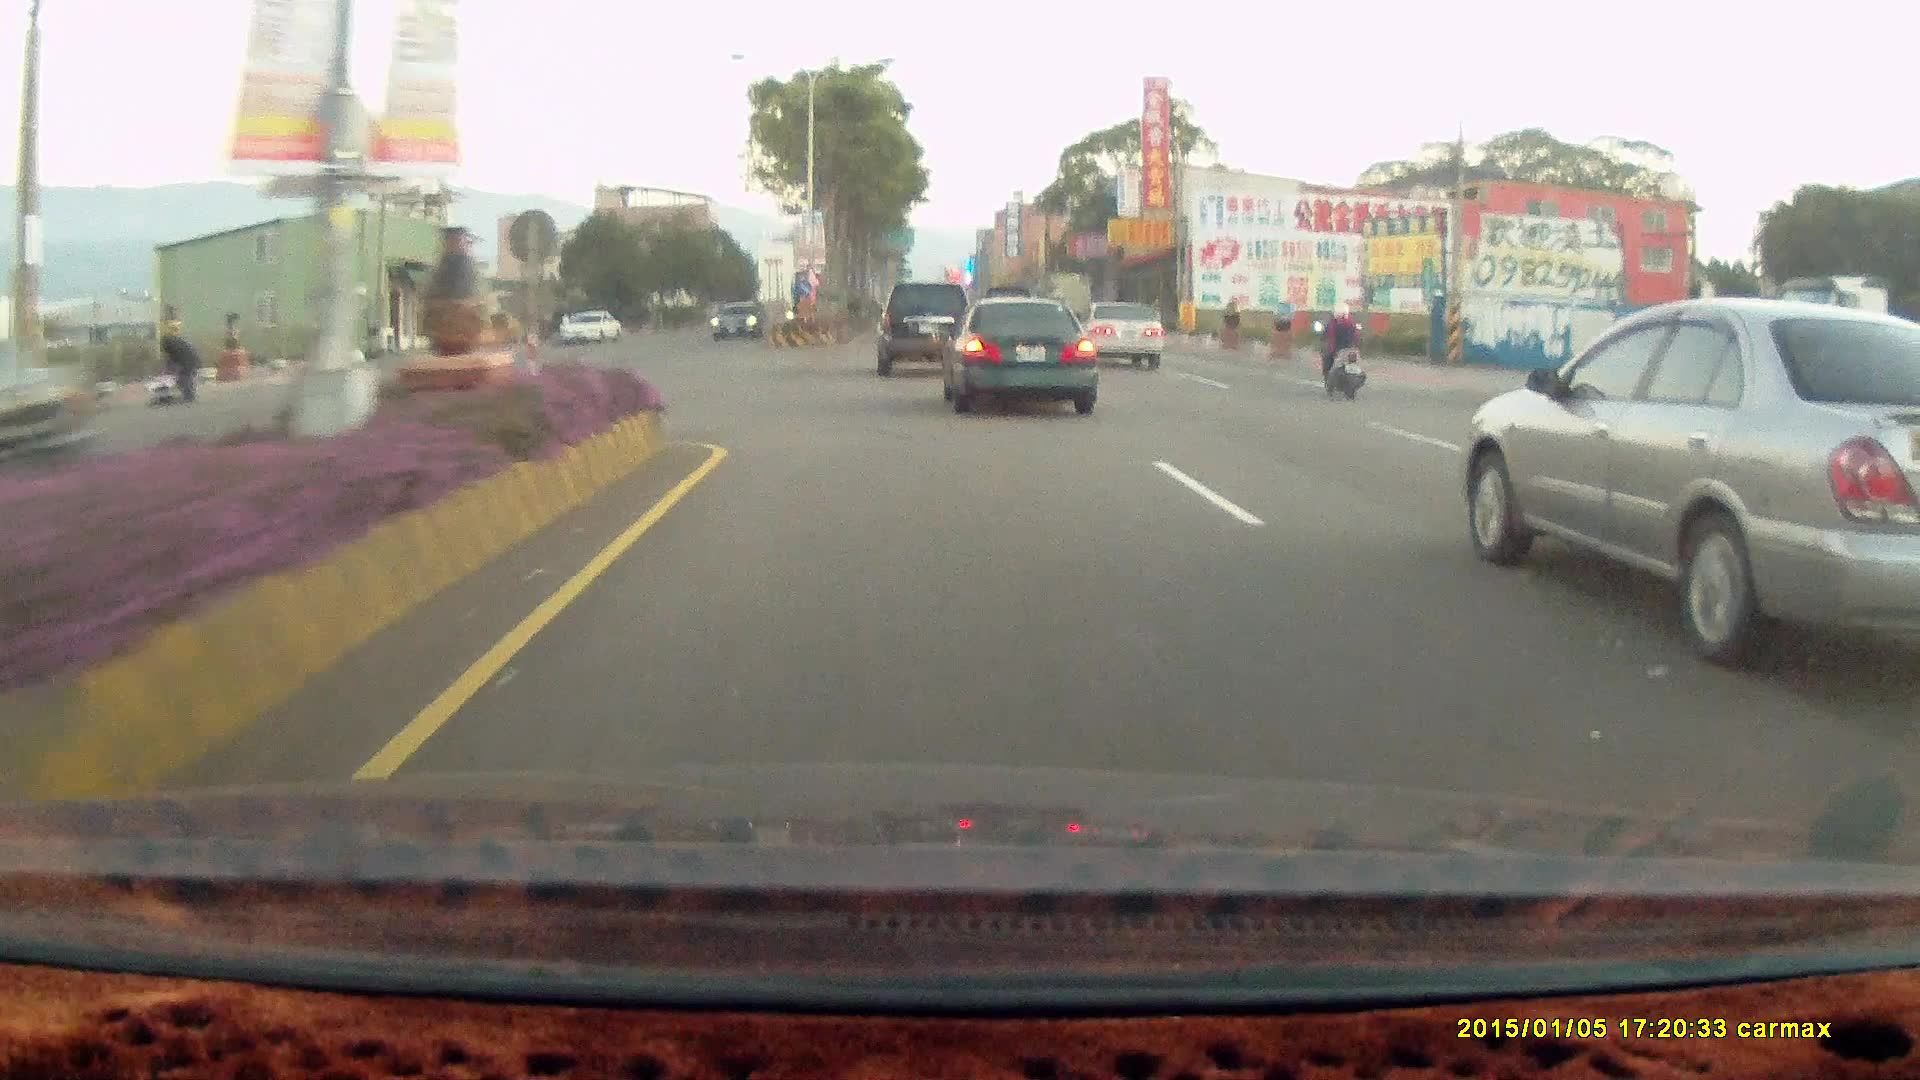pedestrian: (155, 329, 200, 403)
rider: (1305, 291, 1379, 410), (1310, 299, 1366, 397)
vehicle: (1455, 302, 1920, 670), (931, 292, 1091, 410), (950, 297, 1107, 416), (0, 356, 90, 523), (878, 278, 981, 377), (875, 281, 972, 376), (1078, 299, 1166, 372), (1078, 297, 1165, 367), (559, 309, 625, 347), (710, 302, 765, 344), (559, 309, 623, 343), (709, 300, 764, 339)
